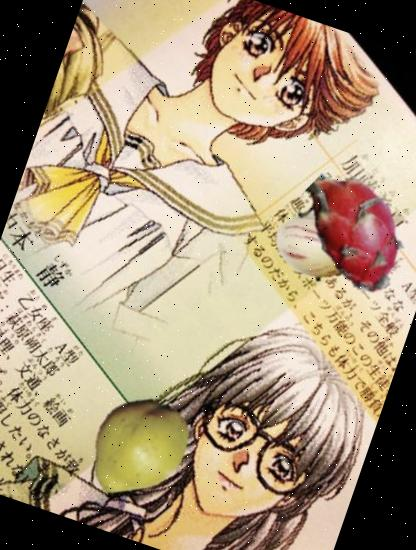Pepino: (265, 192, 374, 301)
Pitahaya: (276, 148, 416, 308)
Quince: (68, 380, 204, 516)
